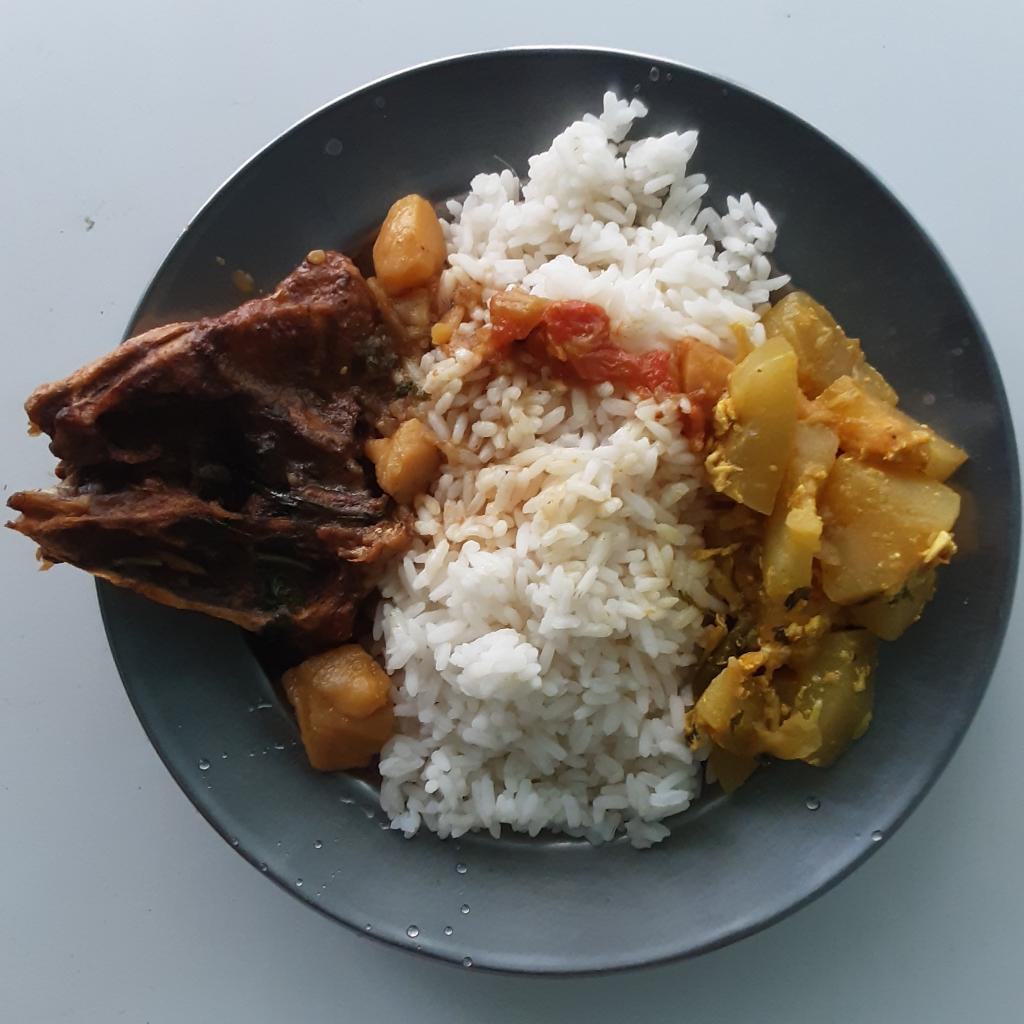fish: (3, 254, 420, 638)
lau: (681, 294, 965, 767)
potato: (486, 288, 687, 401), (281, 635, 403, 772), (366, 195, 468, 350), (372, 422, 444, 510)
rice: (371, 93, 789, 847)
